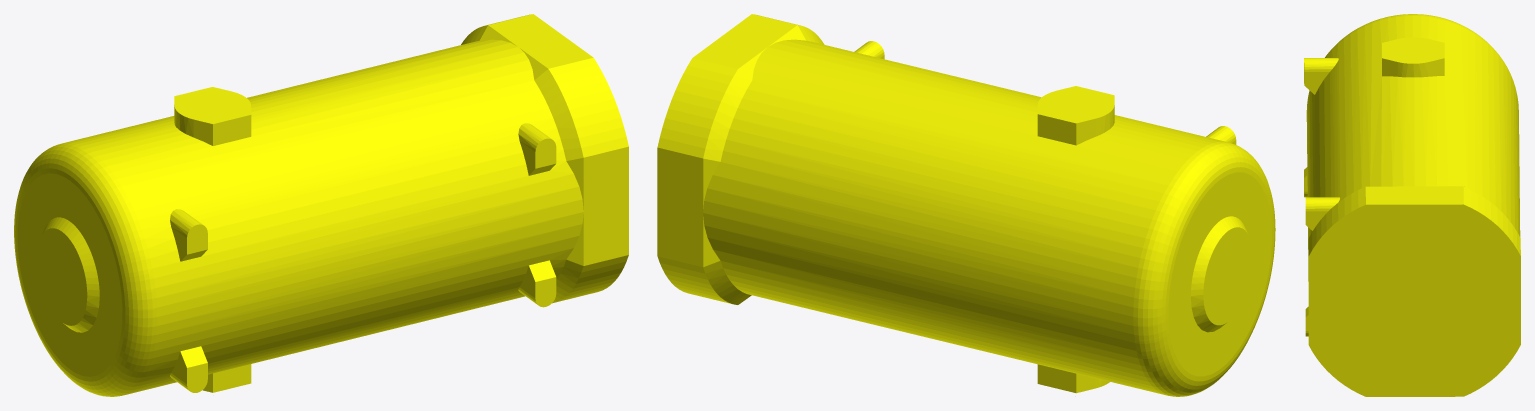
The picture shows the model from 3 angles, left to right: view 1: azimuth 30°, elevation 25°; view 2: azimuth 150°, elevation 25°; view 3: azimuth 270°, elevation 25°; orthographic projection. The views are drawn at different scales.
Visible parts, largest first — view 1: node; view 2: node; view 3: node.
Boxes of the visible parts, x1,y1,x2,y2 form: node: (14, 14, 628, 396); node: (657, 14, 1275, 396); node: (1304, 14, 1520, 396).
Bounding box in the file's own units: 865 × 477 × 394.
